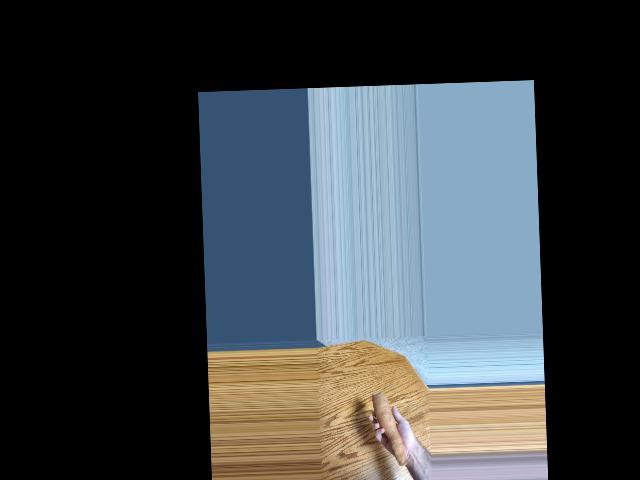sweet_potato: (370, 391, 409, 465)
